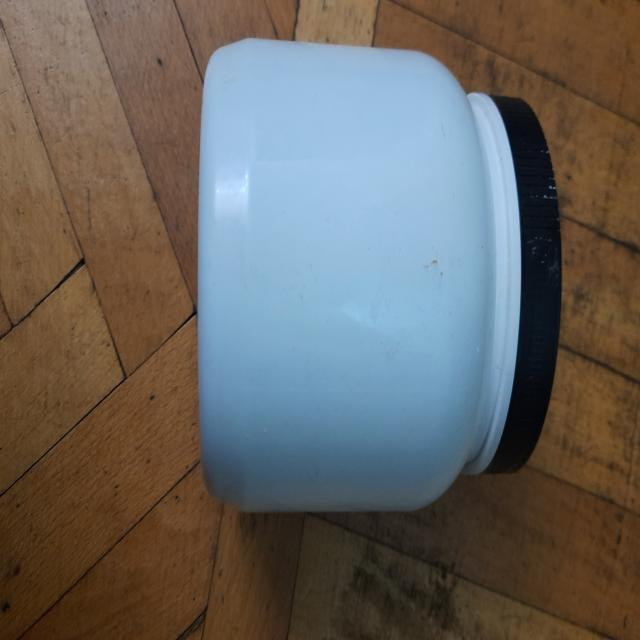plastic: (182, 27, 570, 537)
